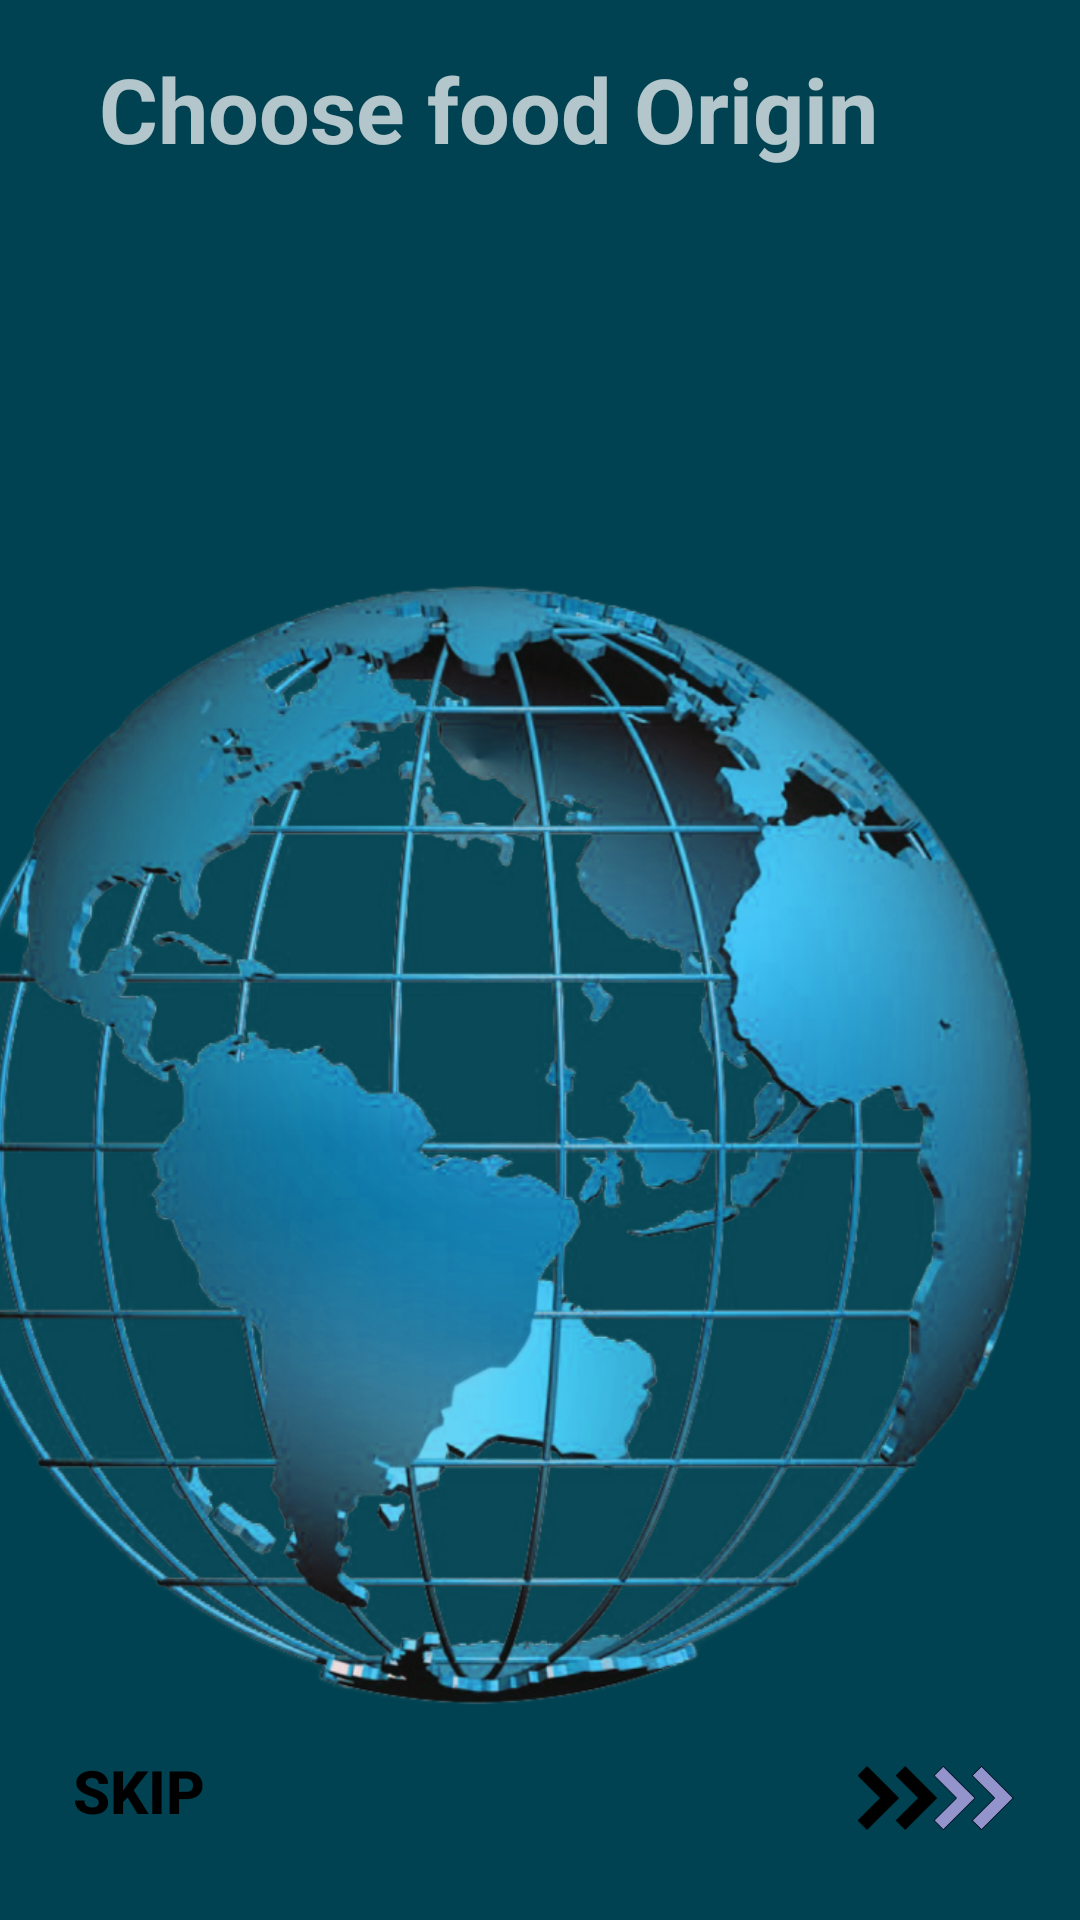

Icon click points for this 1080x1920 phone screenshot, format (x=x, y=y):
Next: (x=936, y=1798)
